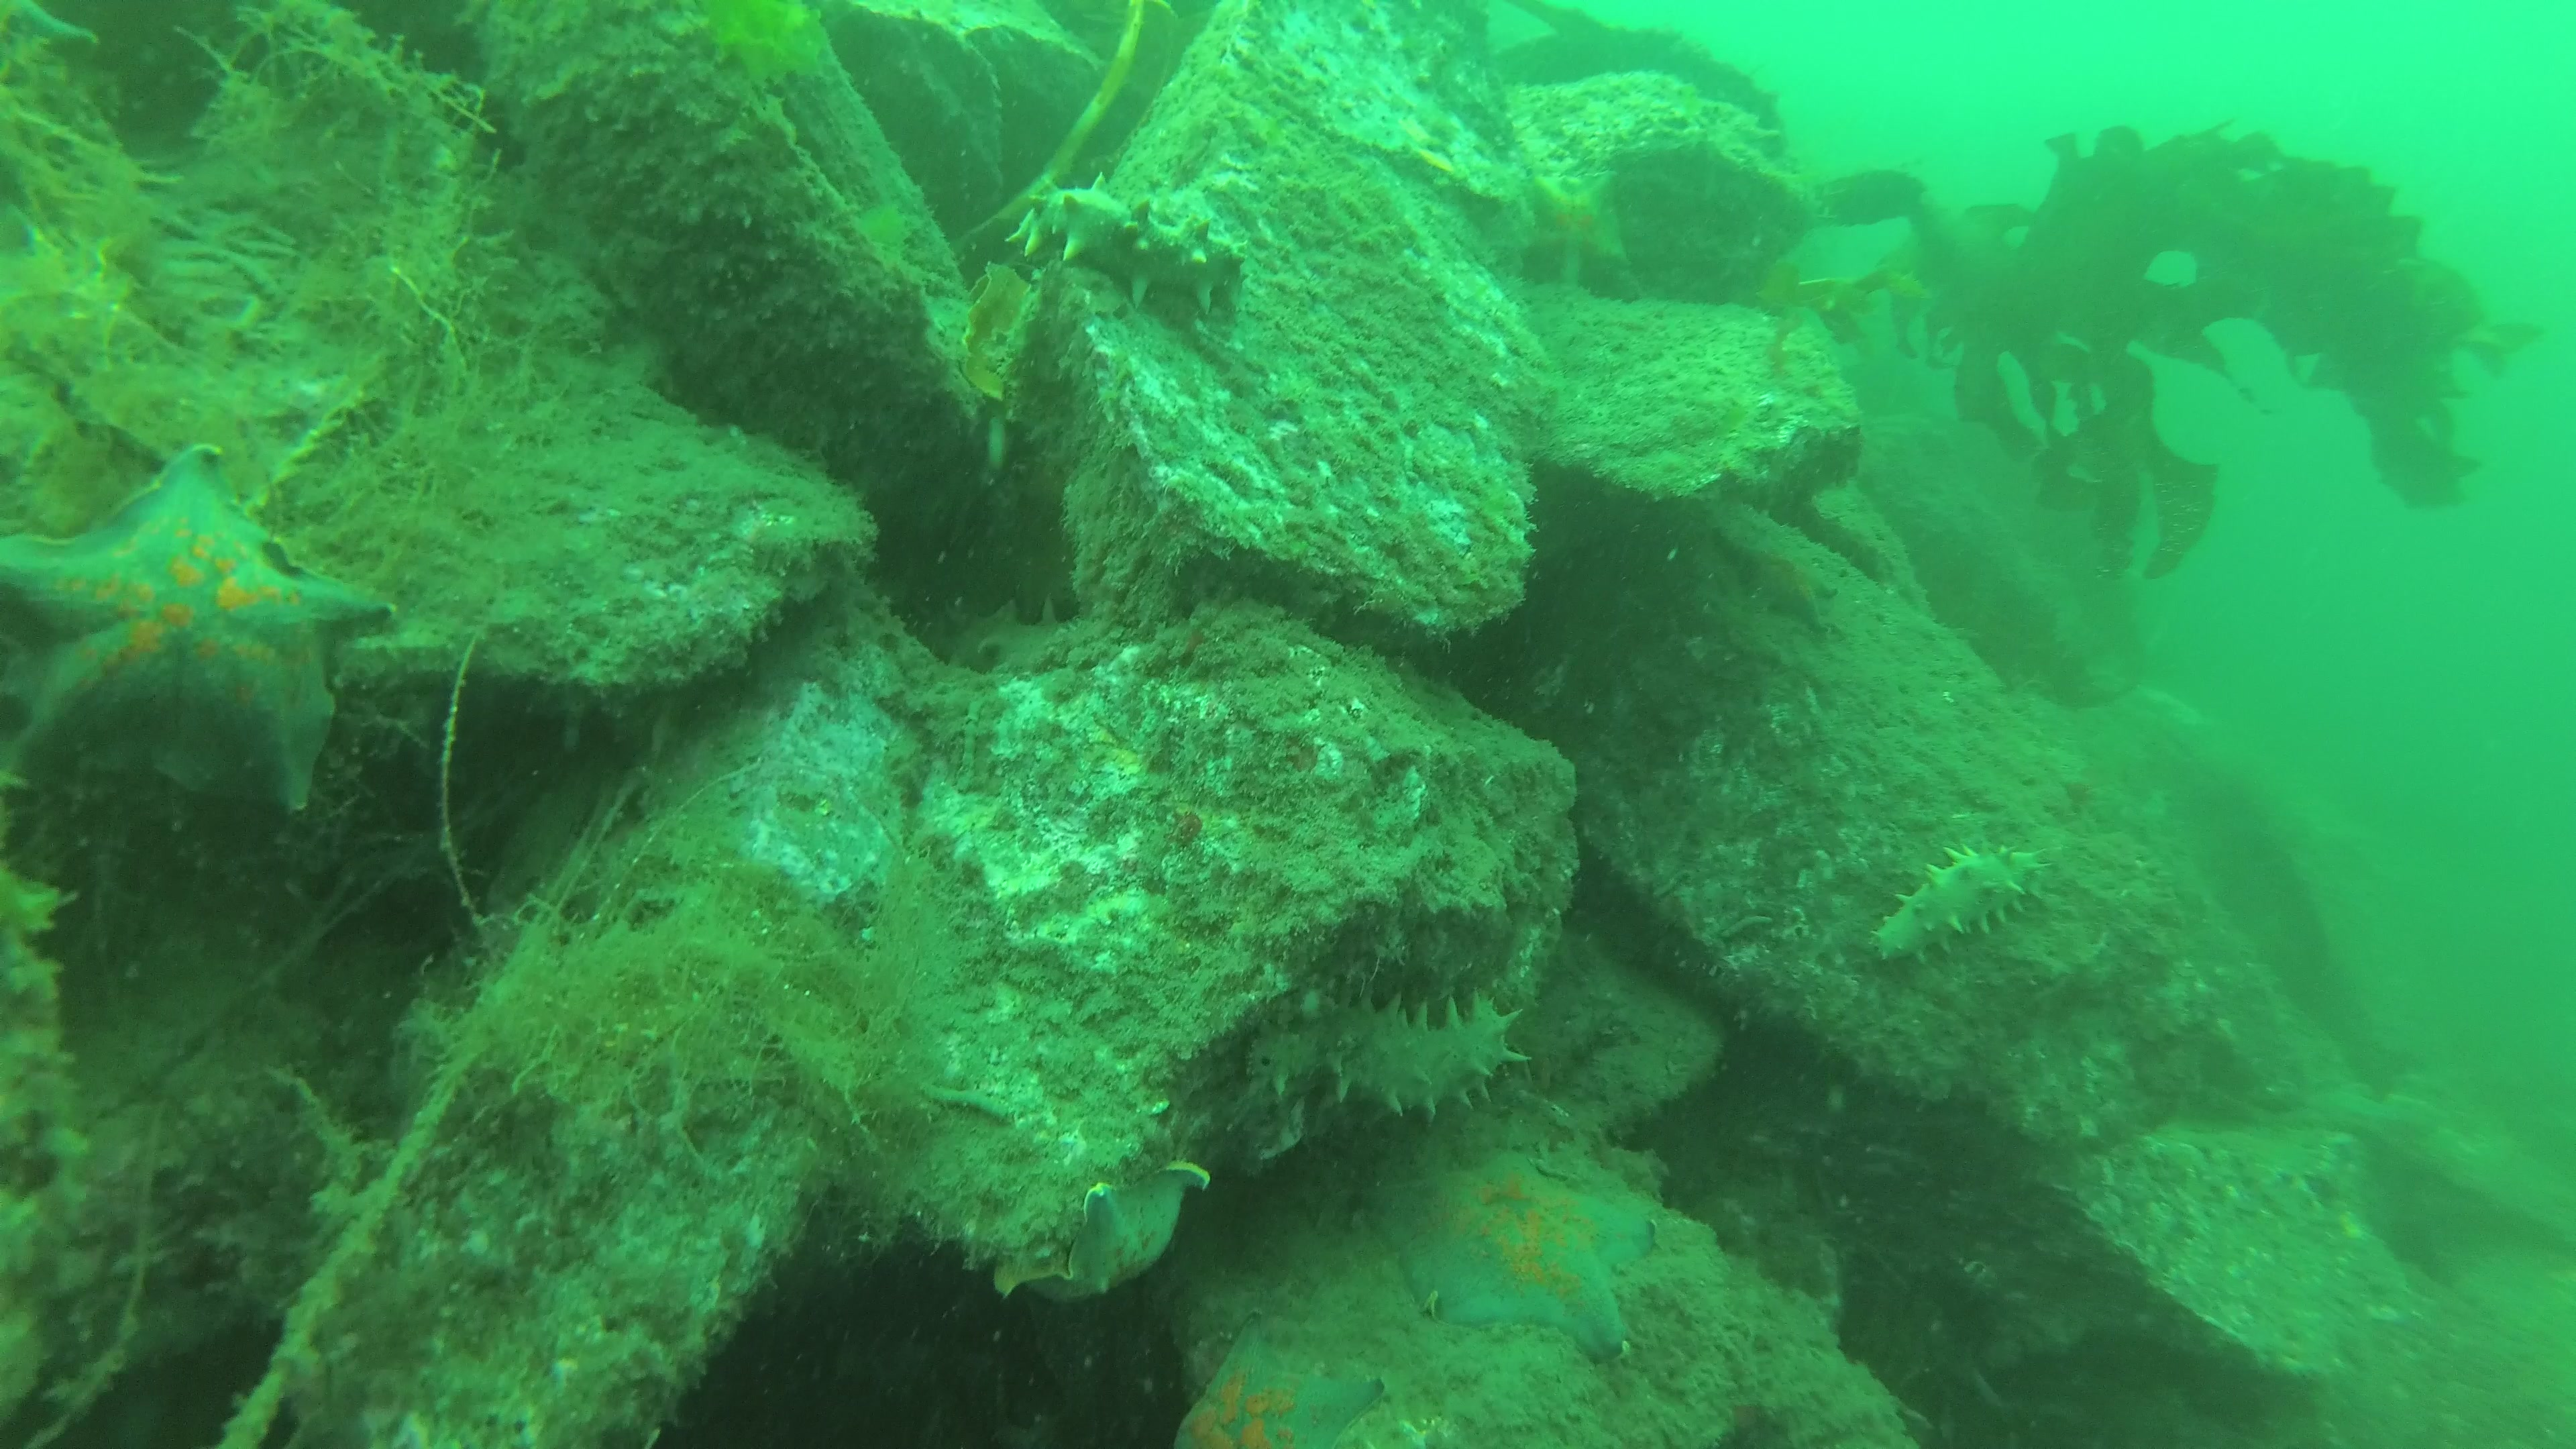holothurian: (1249, 984, 1537, 1131), (1017, 172, 1258, 313), (1874, 837, 2045, 964), (924, 610, 1079, 674)
starfish: (0, 444, 405, 816), (1380, 1125, 1652, 1352), (1001, 1159, 1217, 1309), (1166, 1311, 1396, 1449), (1514, 166, 1638, 288), (0, 0, 103, 67)
